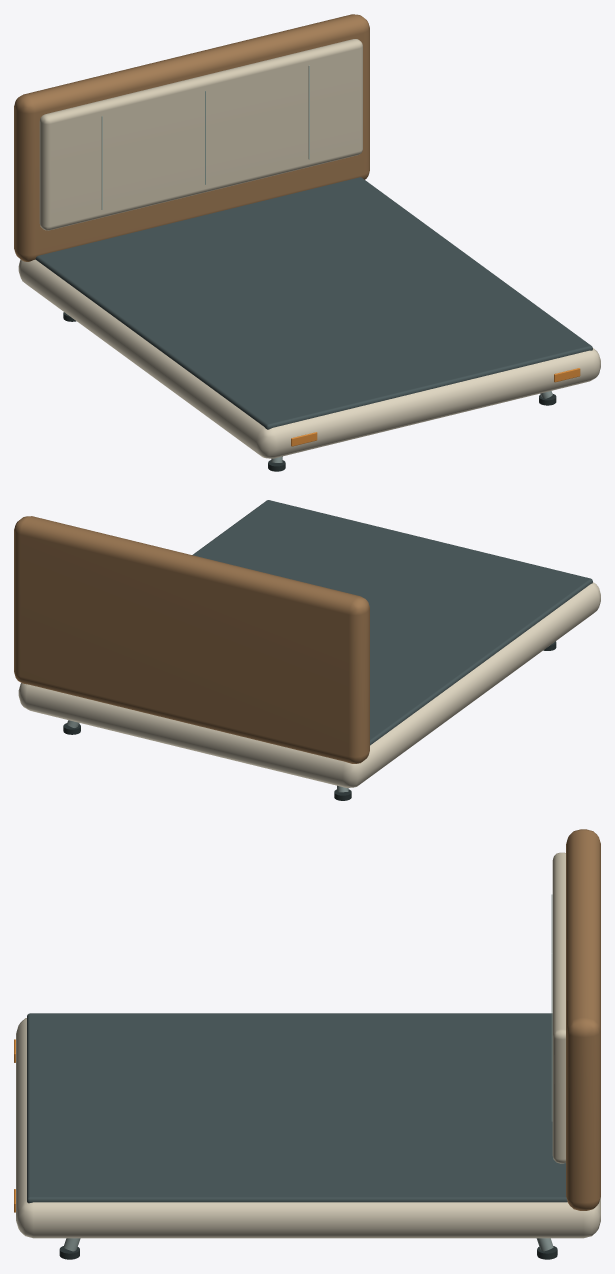
The model's file is bed-frame-160.glb.
The picture shows the model from 3 angles, top to bottom: view 1: azimuth 30°, elevation 25°; view 2: azimuth 150°, elevation 25°; view 3: azimuth 270°, elevation 25°; orthographic projection. The views are drawn at different scales.
Parts seen in each view (by area): view 1: bed-frame-160 / 06 • dark anodized frame, bed-frame-160 / 17 / oatmeal linen, bed-frame-160 / 21 / honey ash timber, bed-frame-160 / 01 • warm porcelain paint; view 2: bed-frame-160 / 21 / honey ash timber, bed-frame-160 / 06 • dark anodized frame, bed-frame-160 / 01 • warm porcelain paint; view 3: bed-frame-160 / 06 • dark anodized frame, bed-frame-160 / 01 • warm porcelain paint, bed-frame-160 / 21 / honey ash timber, bed-frame-160 / 17 / oatmeal linen.
Part boxes in pixels (box(x1,y1,x2,y2)): bed-frame-160 / 06 • dark anodized frame: box(35, 177, 592, 429); bed-frame-160 / 17 / oatmeal linen: box(39, 39, 362, 230); bed-frame-160 / 21 / honey ash timber: box(14, 14, 369, 261); bed-frame-160 / 01 • warm porcelain paint: box(18, 259, 600, 458); bed-frame-160 / 21 / honey ash timber: box(14, 516, 369, 763); bed-frame-160 / 06 • dark anodized frame: box(192, 500, 592, 745); bed-frame-160 / 01 • warm porcelain paint: box(18, 582, 600, 787); bed-frame-160 / 06 • dark anodized frame: box(27, 1013, 567, 1203); bed-frame-160 / 01 • warm porcelain paint: box(16, 1018, 600, 1238); bed-frame-160 / 21 / honey ash timber: box(566, 829, 600, 1210); bed-frame-160 / 17 / oatmeal linen: box(552, 852, 565, 1163).
Size of the model in its own units: 1.76 by 1.04 by 2.19.
